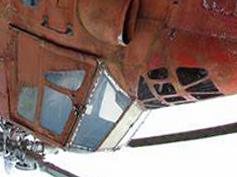rust: (18, 1, 236, 61), (2, 1, 15, 120), (209, 61, 237, 100), (104, 63, 138, 94), (20, 126, 54, 148), (17, 63, 51, 84), (67, 91, 83, 128), (83, 61, 96, 100), (55, 131, 74, 150)
